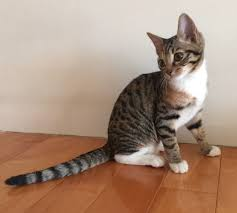cat: (142, 8, 218, 87)
